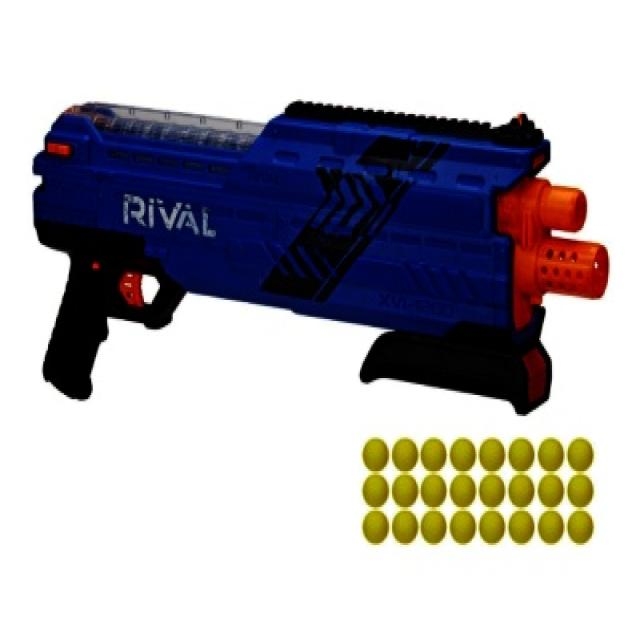Nerf gun: (24, 74, 622, 424)
